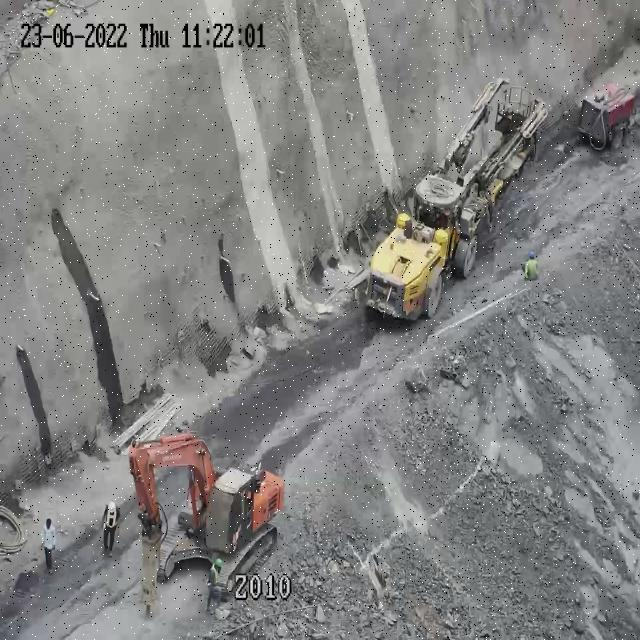Boots: (214, 604, 220, 609), (109, 548, 112, 557), (206, 606, 210, 612), (104, 547, 107, 554), (49, 568, 52, 574)
Helmet: (109, 501, 115, 513), (215, 558, 222, 566), (529, 250, 535, 258)
Mask: (210, 564, 218, 585), (108, 505, 115, 528)
